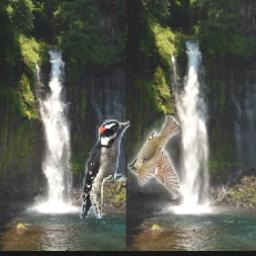Sparrow: (129, 116, 181, 200)
Woodpecker: (81, 119, 131, 219)
